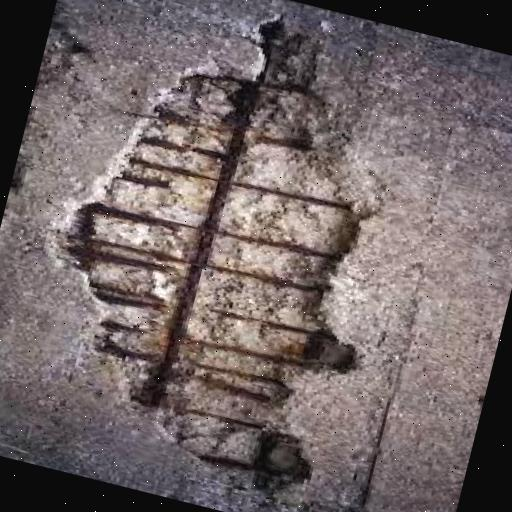spalling: (61, 15, 365, 486)
